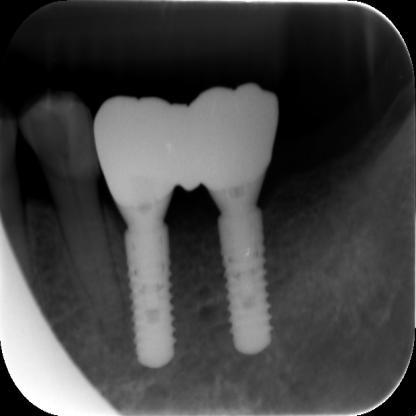ITI: (104, 222, 192, 370), (210, 206, 288, 361)
